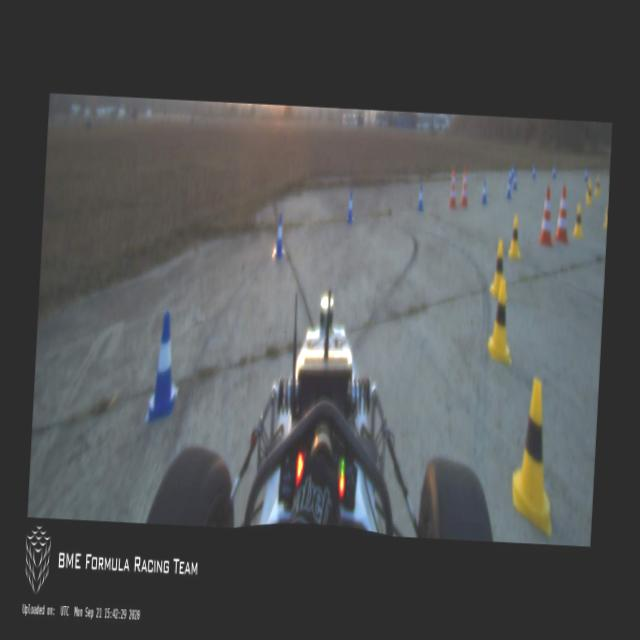blue_cone: (145, 312, 182, 421), (272, 213, 287, 260), (346, 190, 356, 222), (417, 184, 425, 212), (482, 179, 488, 204), (506, 178, 512, 200), (513, 172, 519, 190), (532, 163, 537, 179), (584, 166, 589, 182), (552, 164, 556, 178)
large_orange_cone: (554, 186, 572, 244), (539, 184, 555, 247), (448, 167, 458, 209), (460, 166, 470, 208)
yellow_cone: (510, 379, 560, 538), (488, 280, 516, 367), (488, 240, 504, 296), (508, 215, 523, 262), (572, 203, 585, 239), (594, 174, 602, 197), (586, 180, 592, 207), (603, 201, 608, 229)
